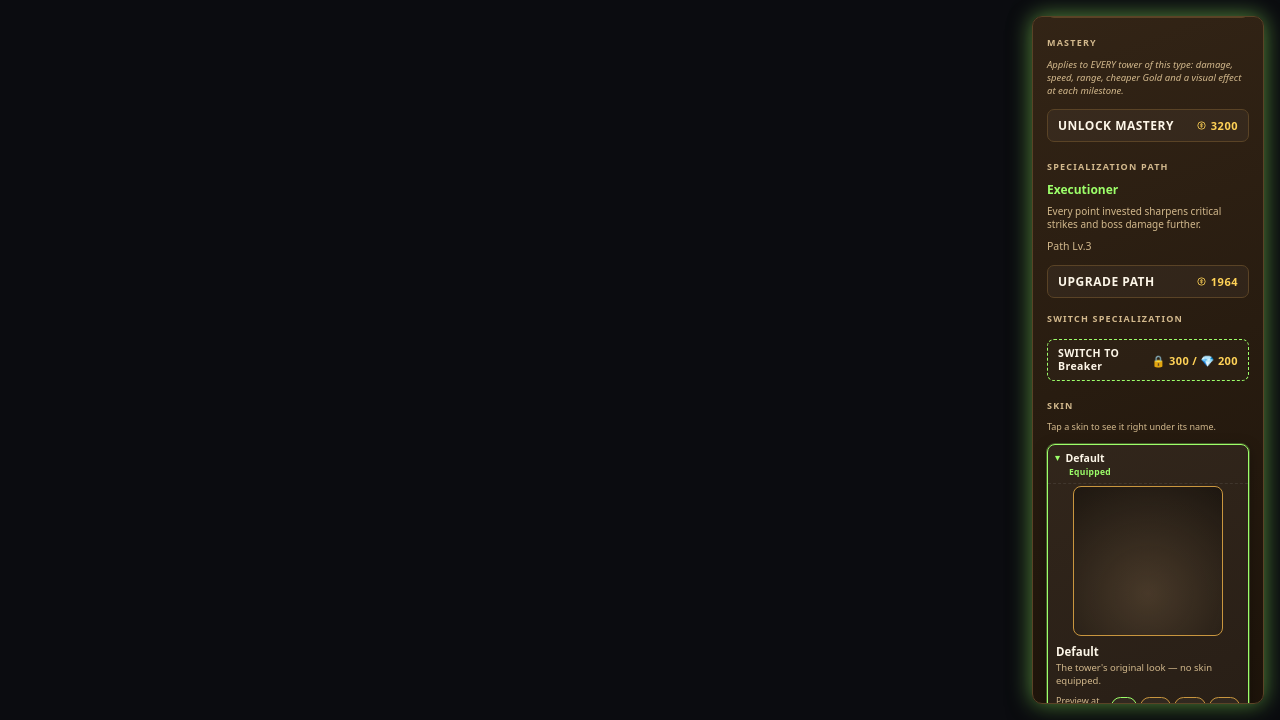
TowerInfoPanel — "Trocar Especialização" (HORDENOVA Season/Progression v1.0) › clicking a switch target shows a confirmation prompt with BOTH currency options, WITHOUT spending Gems yet
The width and height of the screenshot is (1280, 720).
(page scrolled)
Click the button "SWITCH TO Breaker 🔒 300 / 💎 200".
click(1148, 360)  # box top-left (1047, 339), bottom-right (1249, 381)
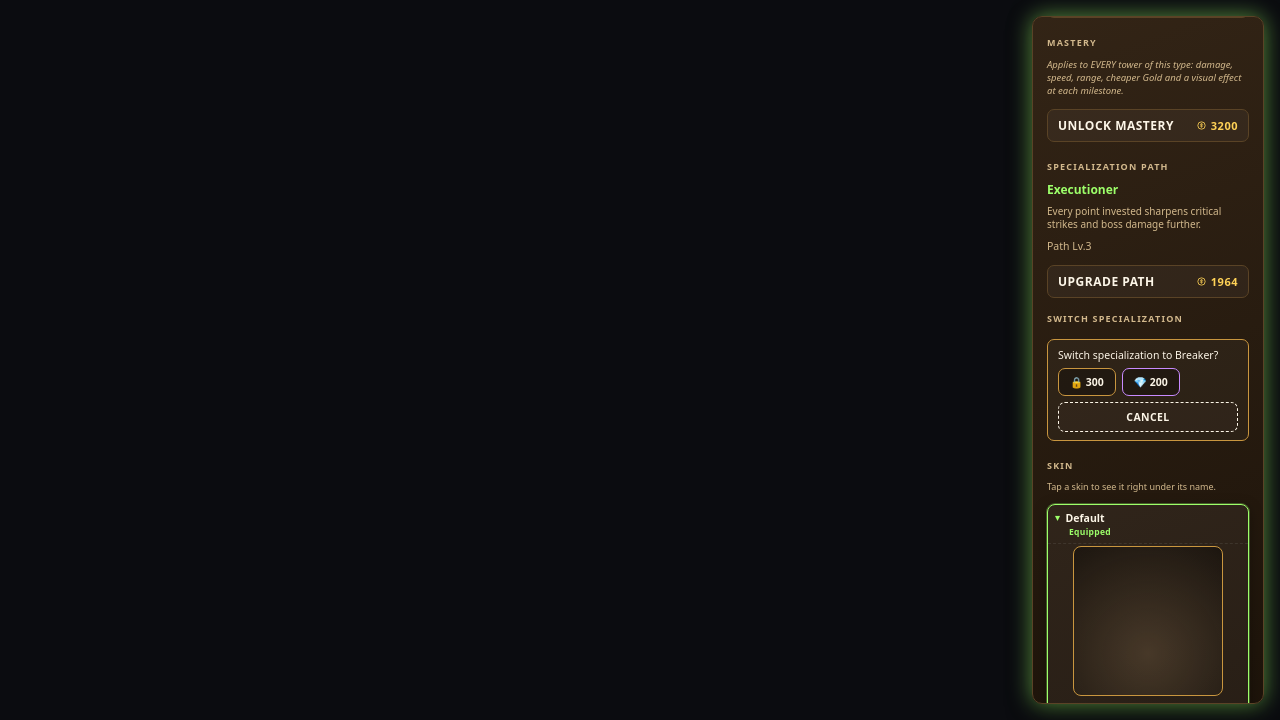
Expected: the text "Breaker" is shown, top-left (1058, 348), bottom-right (1218, 362)
Result: the button "CANCEL" is shown at top-left (1058, 402), bottom-right (1238, 432)
